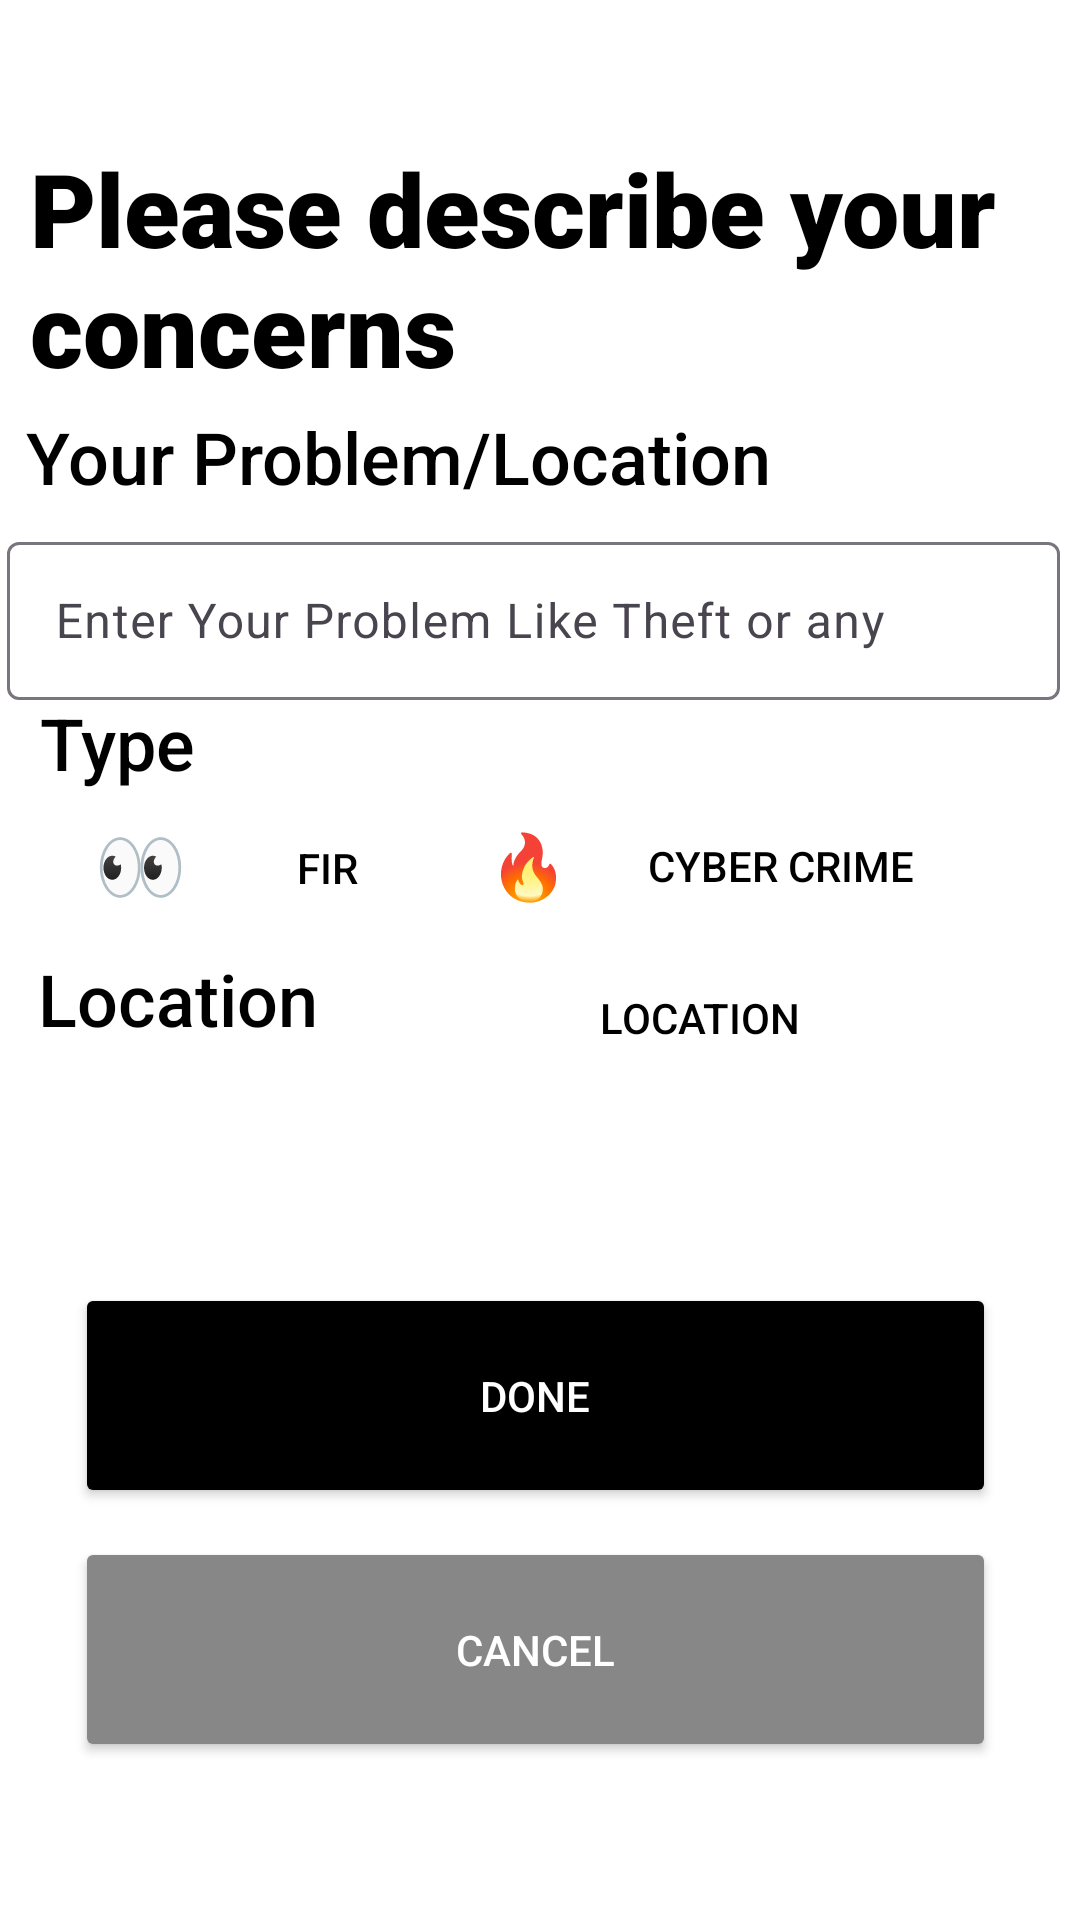

Named icons in this screenshot (1080w x 1920h) and their centers, point (x, y):
eyes: point (140, 867)
fire: point (528, 867)
